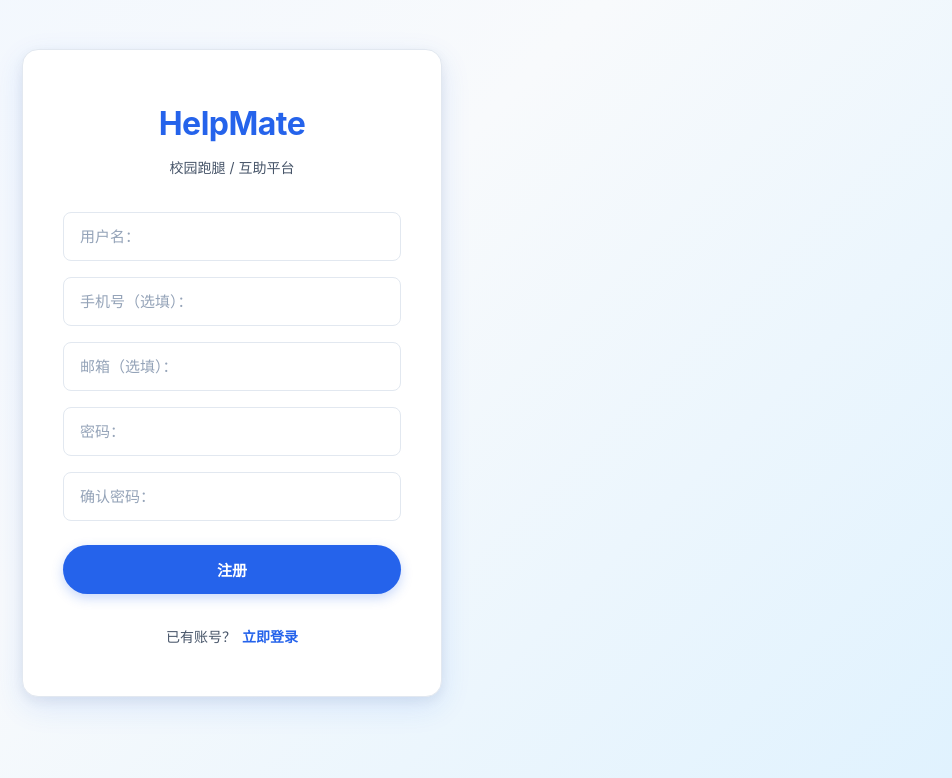
it: Register Component › 密码长度不足时应该显示错误
Type "testuser" into the field with placeholder "用户名：" at {"x": 232, "y": 236}, box top-left (63, 212), bottom-right (401, 261)
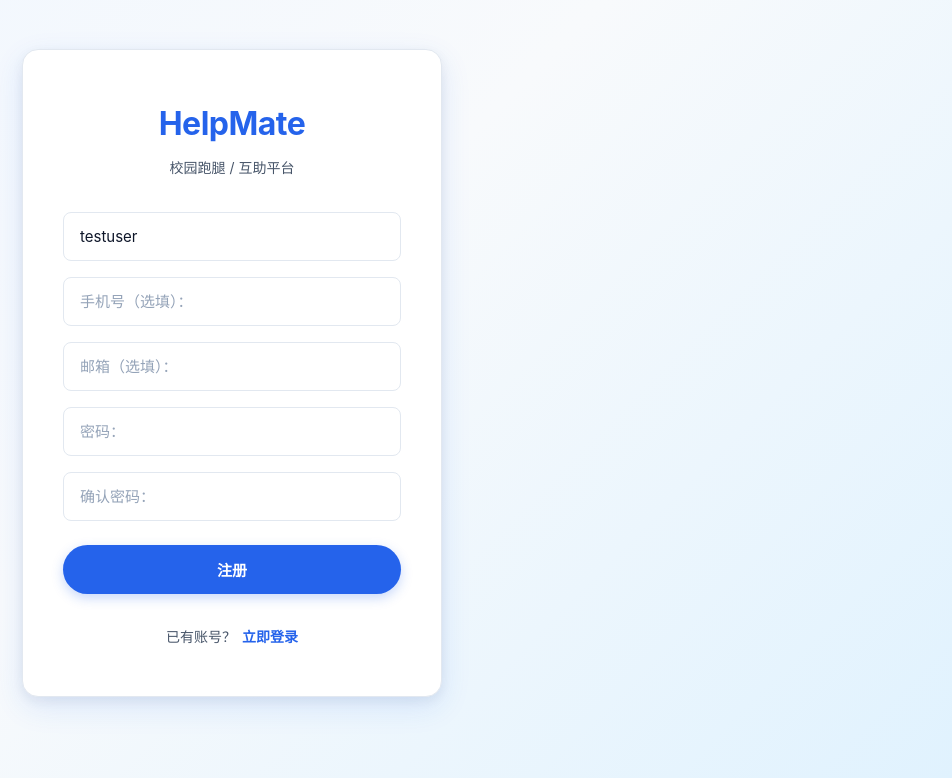
Type "123" into the password field with placeholder "密码：" at {"x": 232, "y": 431}, box top-left (63, 407), bottom-right (401, 456)
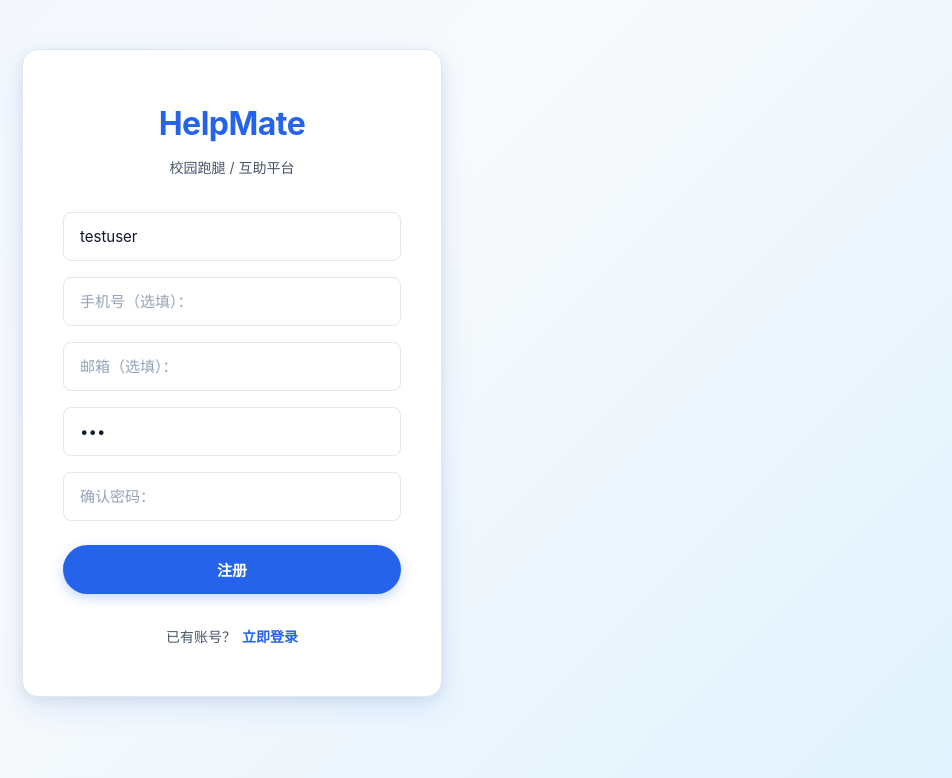
Type "123" into the password field with placeholder "确认密码：" at {"x": 232, "y": 496}, box top-left (63, 472), bottom-right (401, 521)
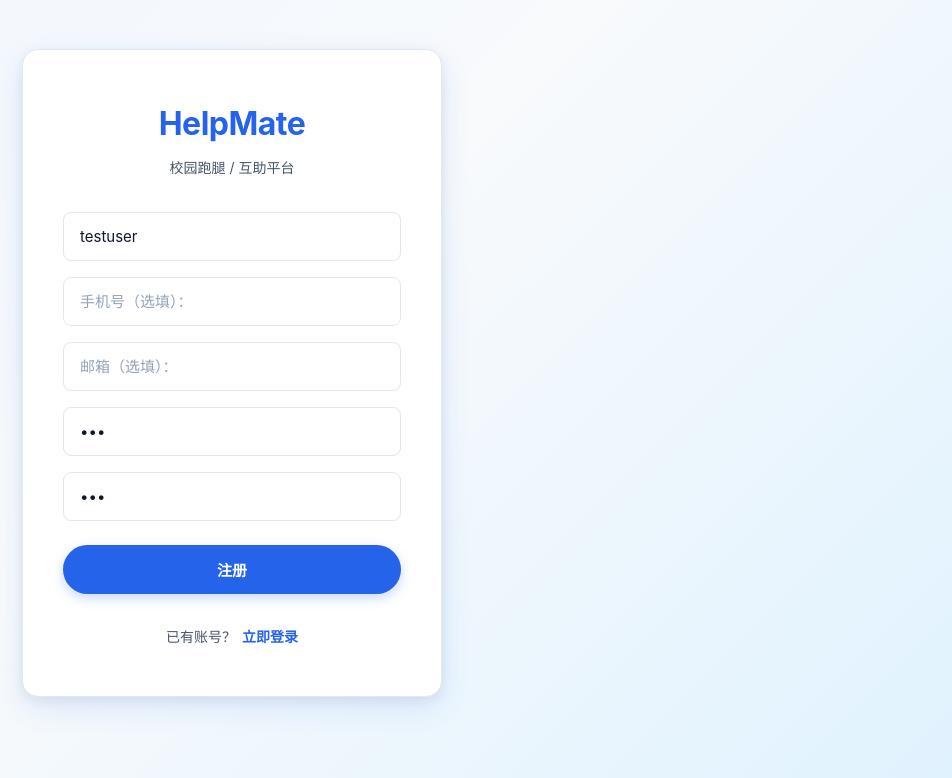
Click the button "注册" at {"x": 232, "y": 569}, box top-left (63, 545), bottom-right (401, 594)
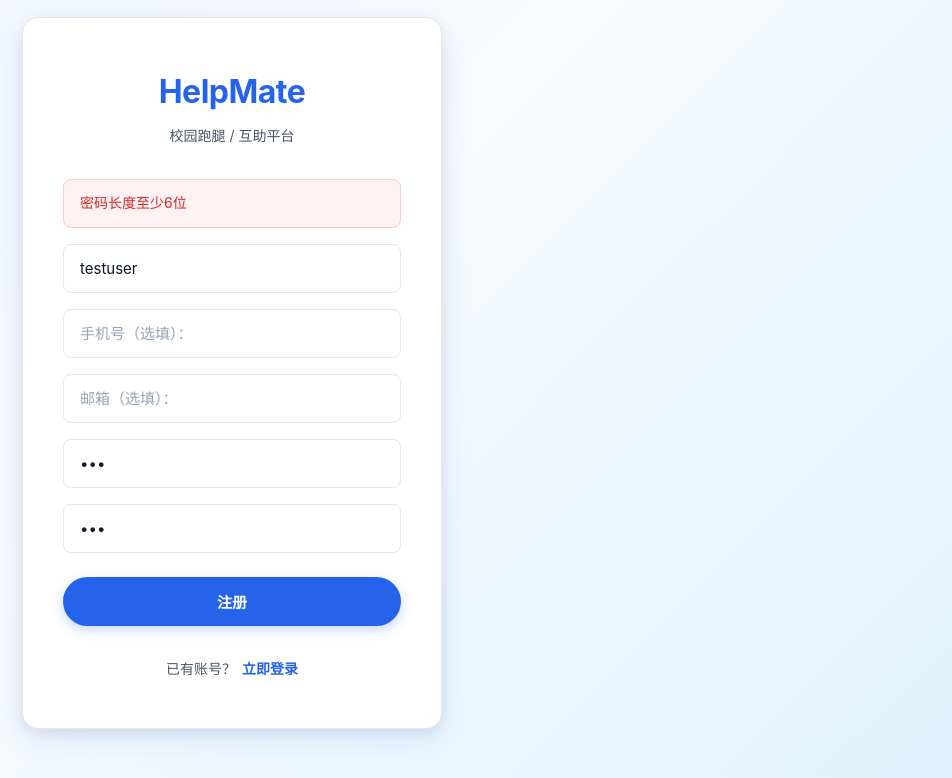
Now the text "密码长度至少6位" is shown, box top-left (63, 179), bottom-right (401, 228)
